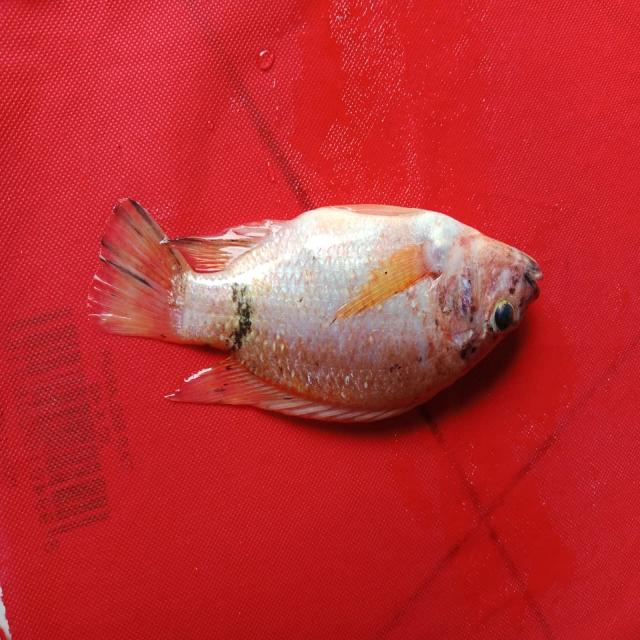ikan: (86, 195, 542, 425)
